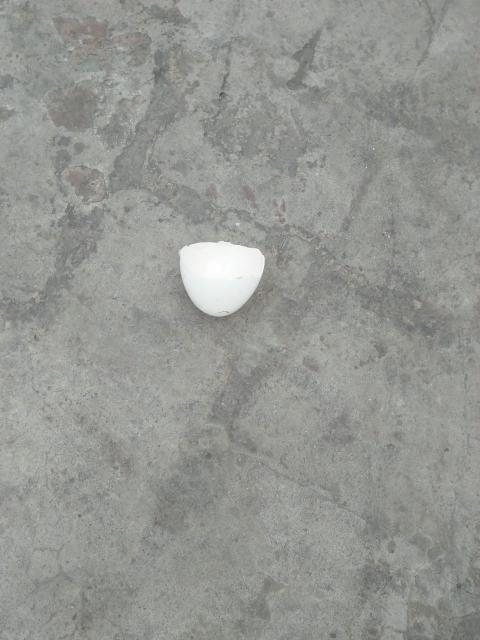Roto: (178, 240, 265, 318)
